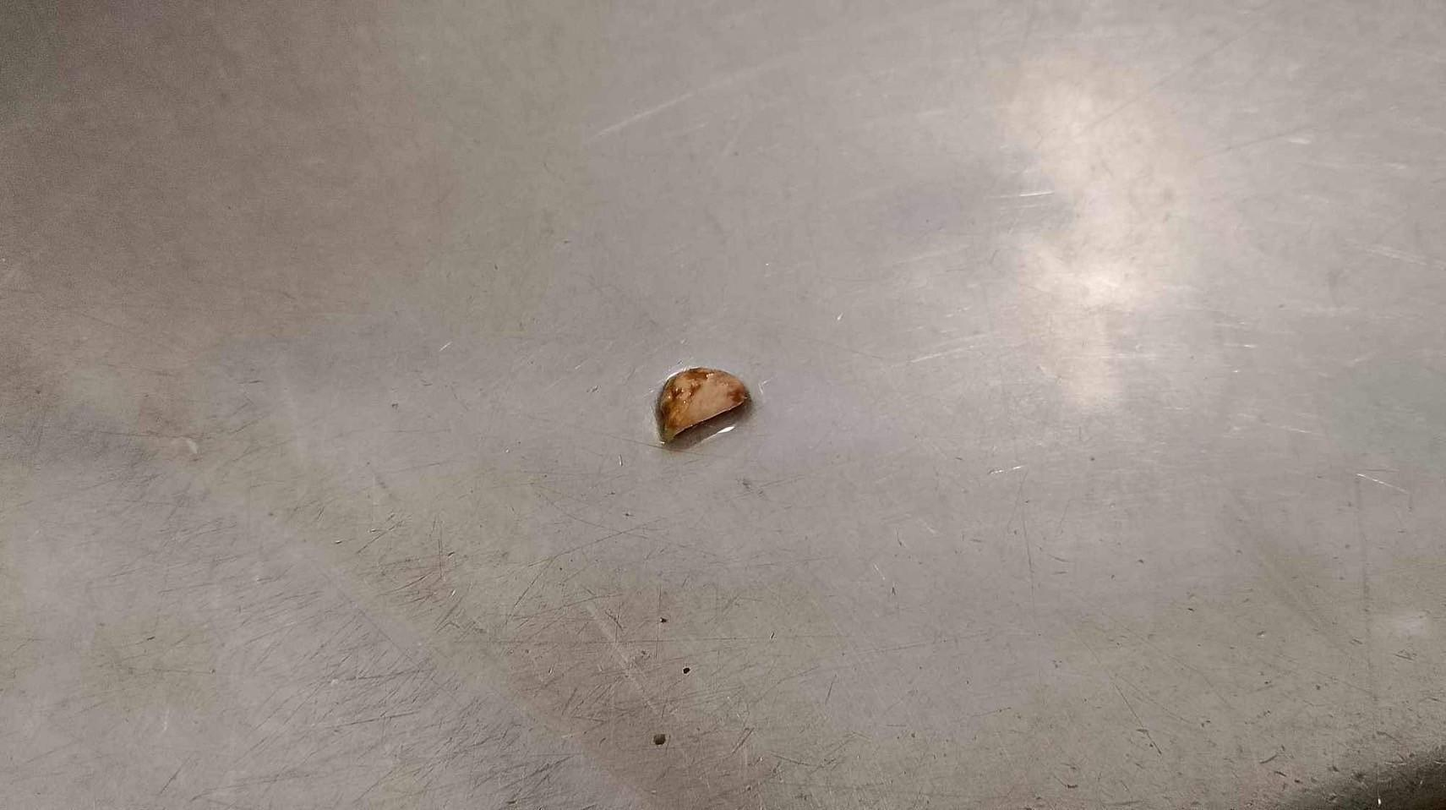General: (4, 3, 1438, 806)
Infectious: (653, 365, 749, 445)
